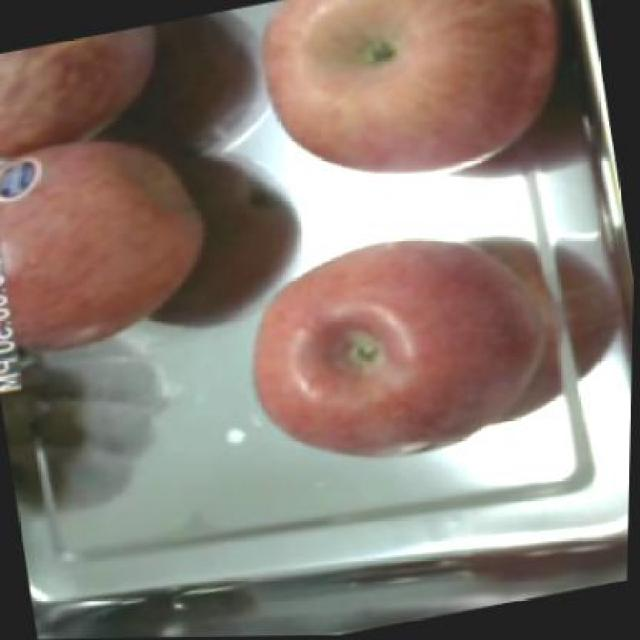Fresh Apple: (257, 254, 554, 458), (255, 1, 557, 172), (0, 148, 202, 354)
